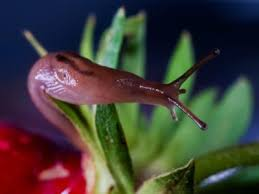slug: (29, 53, 197, 120)
